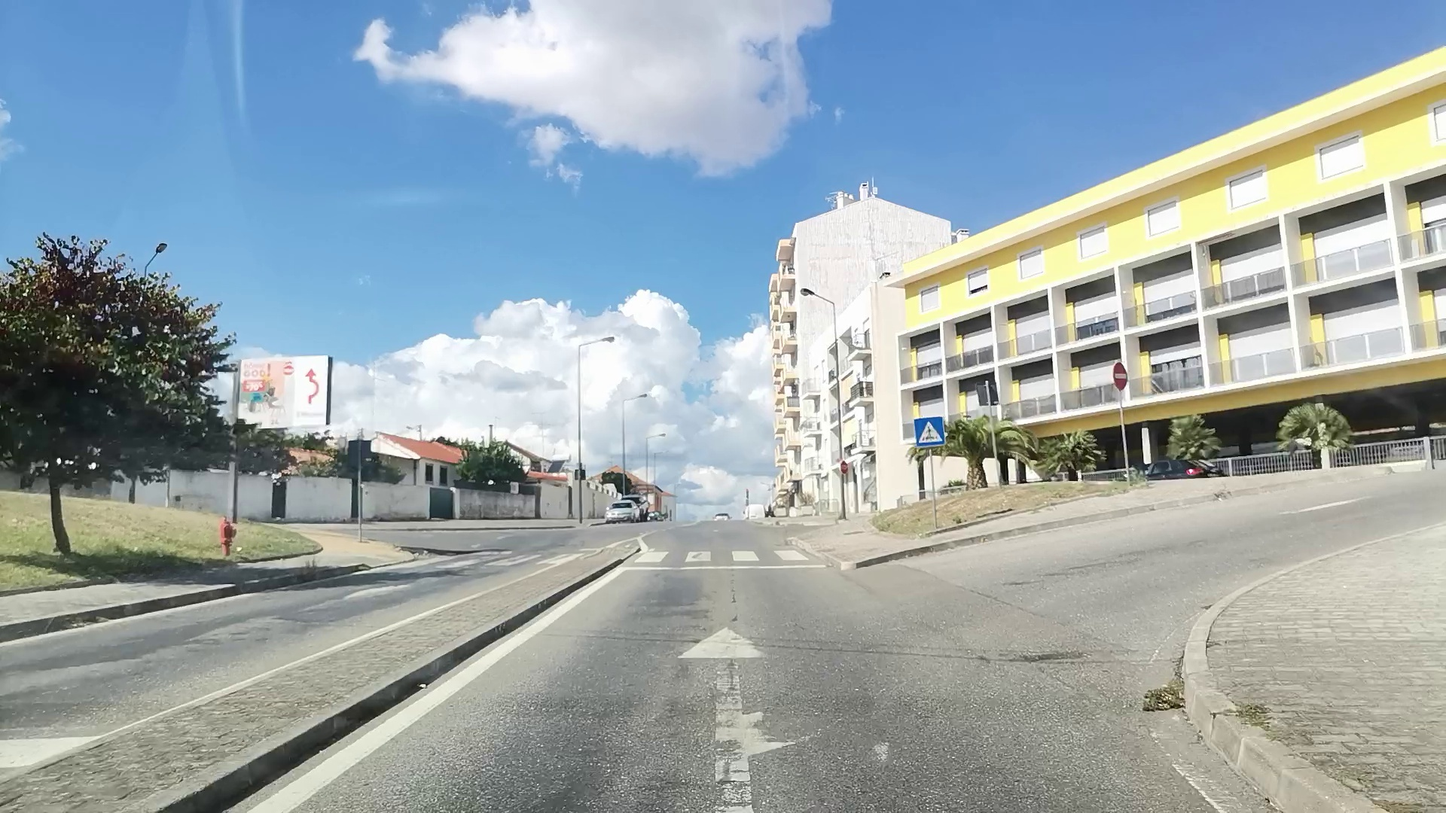Stairs: (383, 553, 582, 574), (635, 547, 808, 565)
